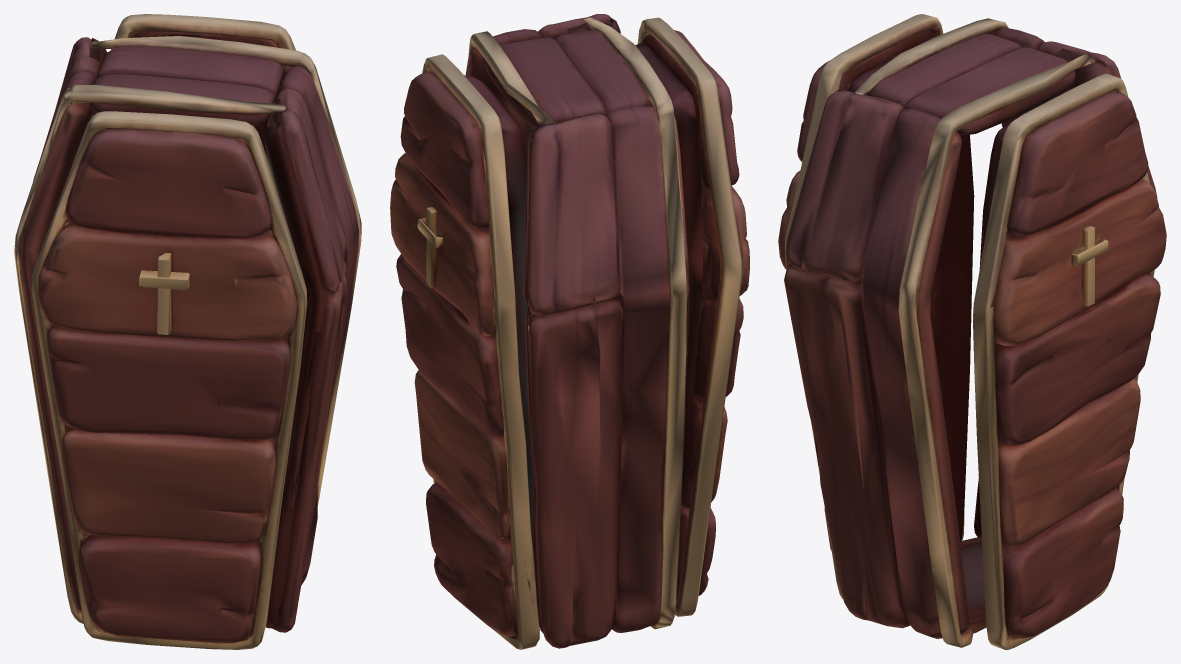
The model's file is S7_Coffin_LOD0.fbx.
3 renders of one model, left to right at view 1: azimuth 30°, elevation 25°; view 2: azimuth 150°, elevation 25°; view 3: azimuth 270°, elevation 25°, orthographic.
Parts seen in each view (by area): view 1: S7_Coffin_LOD0; view 2: S7_Coffin_LOD0; view 3: S7_Coffin_LOD0.
Part boxes in pixels (left/top/right/bottom): S7_Coffin_LOD0: left=14, top=14, right=361, bottom=649; S7_Coffin_LOD0: left=390, top=14, right=749, bottom=649; S7_Coffin_LOD0: left=778, top=14, right=1166, bottom=649.
Bounding box in the file's own units: 1.08 × 1.7 × 1.11.
1 material, 1 textured.
